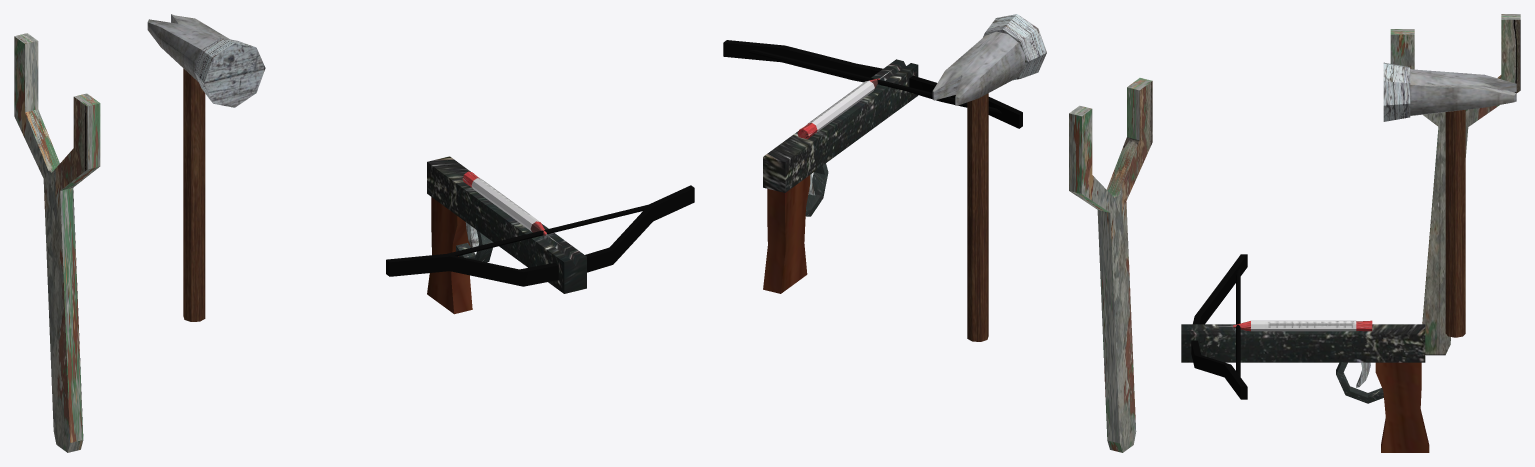
3 views of the same model, side by side, from view 1: azimuth 30°, elevation 25°; view 2: azimuth 150°, elevation 25°; view 3: azimuth 270°, elevation 25° (orthographic). The views are drawn at different scales.
Parts seen in each view (by area): view 1: co_le2, pCube4, pCylinder1, pCube5, pCylinder2, pCube3, pCube1, xi_lanh2, pCylinder3; view 2: co_le2, pCube4, pCylinder1, pCube3, pCube1, pCube5, pCylinder2, xi_lanh2, pCylinder3, pPipe1; view 3: pCube4, co_le2, pCylinder1, pCube1, pCube3, pCube5, xi_lanh2, pCylinder2, pPipe1, pCylinder3.
Part boxes in pixels (x1=…): co_le2: x1=14, y1=33, x2=100, y2=452; pCube4: x1=427, y1=156, x2=586, y2=293; pCylinder1: x1=183, y1=68, x2=205, y2=321; pCube5: x1=386, y1=185, x2=694, y2=286; pCylinder2: x1=194, y1=37, x2=265, y2=107; pCube3: x1=427, y1=197, x2=472, y2=314; pCube1: x1=147, y1=14, x2=229, y2=82; xi_lanh2: x1=462, y1=171, x2=559, y2=244; pCylinder3: x1=447, y1=204, x2=648, y2=256; co_le2: x1=1069, y1=78, x2=1152, y2=452; pCube4: x1=763, y1=59, x2=918, y2=192; pCylinder1: x1=967, y1=93, x2=988, y2=341; pCube3: x1=763, y1=175, x2=810, y2=293; pCube1: x1=932, y1=31, x2=1025, y2=105; pCube5: x1=723, y1=40, x2=1022, y2=128; pCylinder2: x1=983, y1=14, x2=1046, y2=80; xi_lanh2: x1=797, y1=69, x2=892, y2=139; pCylinder3: x1=748, y1=50, x2=1001, y2=114; pPipe1: x1=805, y1=163, x2=828, y2=216; pCube4: x1=1181, y1=324, x2=1425, y2=362; co_le2: x1=1390, y1=14, x2=1520, y2=355; pCylinder1: x1=1445, y1=110, x2=1465, y2=337; pCube1: x1=1410, y1=69, x2=1516, y2=115; pCube3: x1=1375, y1=362, x2=1429, y2=452; pCube5: x1=1191, y1=254, x2=1247, y2=399; xi_lanh2: x1=1209, y1=320, x2=1372, y2=331; pCylinder2: x1=1383, y1=62, x2=1410, y2=121; pPipe1: x1=1336, y1=362, x2=1383, y2=403; pCylinder3: x1=1236, y1=269, x2=1240, y2=376.
Bounding box in the file's own units: 0.7764 × 0.5556 × 0.4906.
4 materials, 4 textured.
